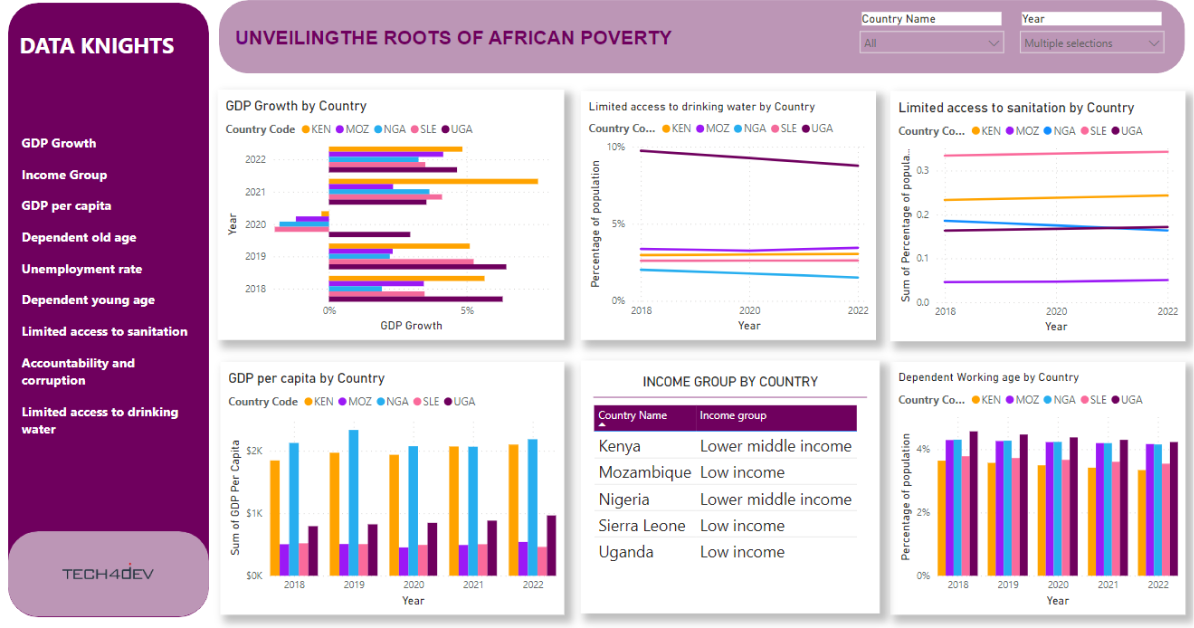

Layout of this report page (visuals, bound fields, positions):
{"tool":"powerbi","page":{"name":"Page 1","canvas":[1500,800],"ordinal":0},"visuals":[{"type":"shape","box":[275.4,13.1,1206.6,91.8],"z":0},{"type":"shape","box":[11.5,16.4,250.8,767.2],"z":1000},{"type":"textbox","box":[290,41.7,588.3,51.7],"z":2000},{"type":"clusteredColumnChart","title":"Dependent Working age  by Country","fields":{"Category":["DependentWorkingAge.YEAR"],"Series":["DependentWorkingAge.Country Code"],"Y":["Sum(DependentWorkingAge.Percentage of dependent working age)"]},"box":[1113.1,464.3,368.9,316.4],"z":3000},{"type":"slicer","fields":{"Values":["Year.Year.Variation.Date Hierarchy.Year"]},"box":[1265.6,22.6,200,70],"z":4000},{"type":"slicer","fields":{"Values":["Country.Country Name"]},"box":[1065.6,22.6,200,70],"z":5000},{"type":"clusteredBarChart","title":"GDP Growth by Country","fields":{"Category":["GDP_Growth.Year"],"Y":["Sum(GDP_Growth.GDP Growth)"],"Series":["GDP_Growth.Country Code"]},"box":[273.8,125,432.8,313.1],"z":6000},{"type":"lineChart","title":"Limited access to drinking water by Country","fields":{"Category":["LimitedAccessToDrinkingWater.Year"],"Y":["Divide(Sum(LimitedAccessToDrinkingWater.Percentage of Population ), ScopedEval(Sum(LimitedAccessToDrinkingWater.Percenta"],"Series":["LimitedAccessToDrinkingWater.Country Code"]},"box":[726.2,126.6,368.9,311.5],"z":7000},{"type":"lineChart","title":"Limited access to sanitation by Country","fields":{"Series":["LimitedAccessToSanitation.Country Code"],"Category":["LimitedAccessToSanitation.Year.Variation.Date Hierarchy.Year"],"Y":["Sum(LimitedAccessToSanitation.Percentage of population)"]},"box":[1113.1,126.6,368.9,313.1],"z":8000},{"type":"clusteredColumnChart","title":"GDP per capita by Country","fields":{"Category":["GDP_PerCapita.Year"],"Series":["GDP_PerCapita.Country Code"],"Y":["Sum(GDP_PerCapita.GDP Per Capita)"]},"box":[277,464.3,429.5,316.4],"z":9000},{"type":"tableEx","title":"INCOME GROUP BY COUNTRY","fields":{"Values":["IncomeGroup.Country Name","IncomeGroup.Income group"]},"box":[726.2,463.8,373.8,316.4],"z":10000},{"type":"shape","box":[11.5,677,250.8,106.6],"z":11000},{"type":"textbox","box":[8.2,27.9,227.9,77],"z":12000},{"type":"textbox","box":[22.6,174.2,232.3,393.5],"z":13000},{"type":"image","box":[23,685.2,227.9,91.8],"z":14000}]}

Visuals, with their boxes in screenshot pixels (x1, y1, x2, y2), scaled from the page's 1500x800 canvas onto the 1194x628 screenshot:
shape: left=219, top=10, right=1180, bottom=82
shape: left=9, top=13, right=209, bottom=615
textbox: left=231, top=33, right=699, bottom=73
"Dependent Working age  by Country" clusteredColumnChart: left=886, top=364, right=1180, bottom=613
slicer - Year.Year.Variation.Date Hierarchy.Year: left=1007, top=18, right=1167, bottom=73
slicer - Country.Country Name: left=848, top=18, right=1007, bottom=73
"GDP Growth by Country" clusteredBarChart: left=218, top=98, right=562, bottom=344
"Limited access to drinking water by Country" lineChart: left=578, top=99, right=872, bottom=344
"Limited access to sanitation by Country" lineChart: left=886, top=99, right=1180, bottom=345
"GDP per capita by Country" clusteredColumnChart: left=220, top=364, right=562, bottom=613
"INCOME GROUP BY COUNTRY" tableEx: left=578, top=364, right=876, bottom=612
shape: left=9, top=531, right=209, bottom=615
textbox: left=7, top=22, right=188, bottom=82
textbox: left=18, top=137, right=203, bottom=446
image: left=18, top=538, right=200, bottom=610
